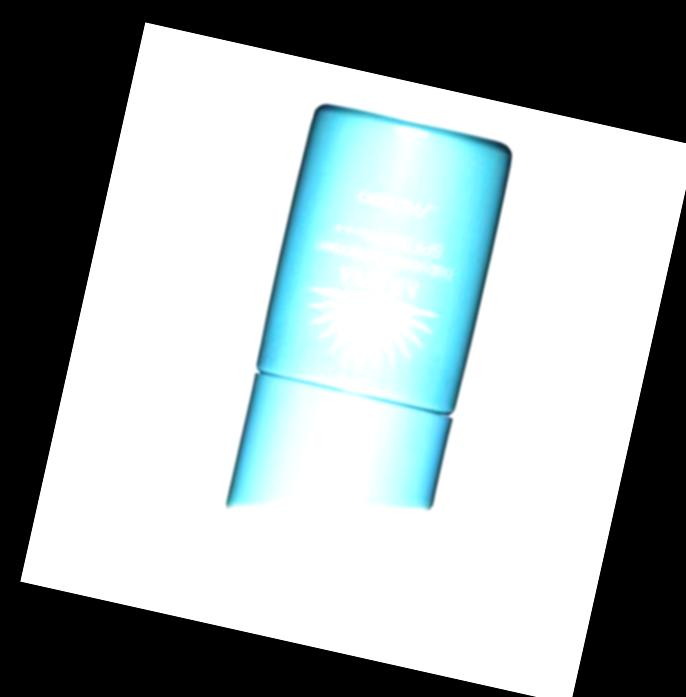cosmetic: (218, 99, 515, 556)
